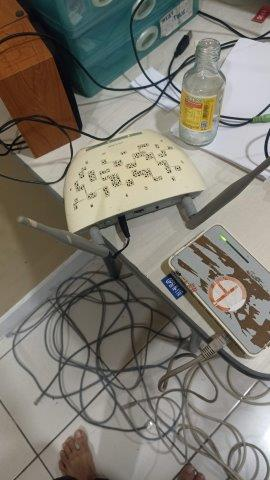botolkaca: (176, 38, 224, 151)
kertas: (166, 39, 270, 188)
